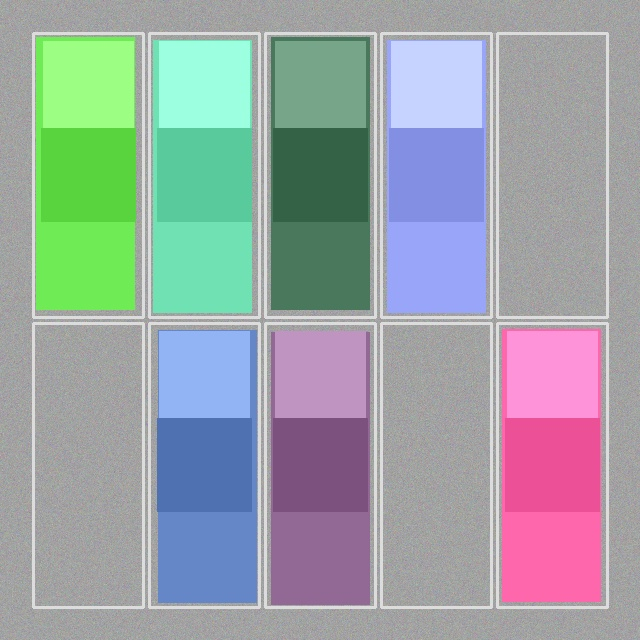space-empty: (499, 35, 605, 315), (35, 325, 141, 605), (383, 325, 489, 605)
space-occupied: (35, 35, 141, 315), (151, 35, 257, 315), (267, 35, 373, 315), (383, 35, 489, 315), (151, 325, 257, 605), (267, 325, 373, 605), (499, 325, 605, 605)
